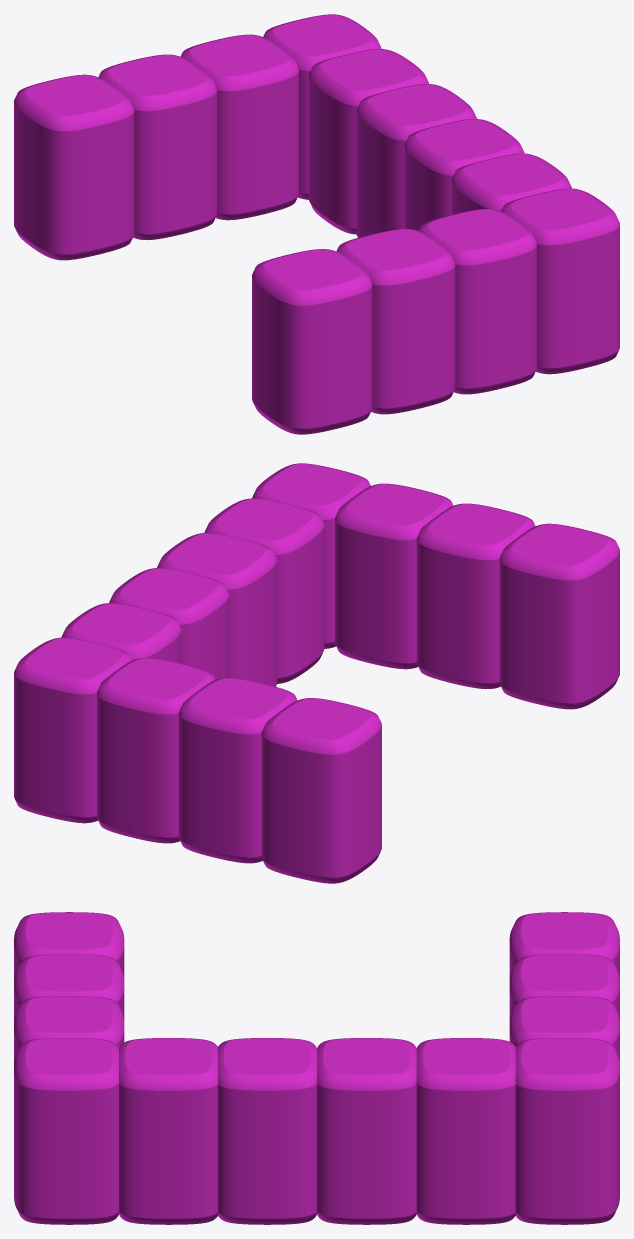
Rendered from Letter_C.fbx.
The picture shows the model from 3 angles, top to bottom: view 1: azimuth 30°, elevation 25°; view 2: azimuth 150°, elevation 25°; view 3: azimuth 270°, elevation 25°; orthographic projection. The views are drawn at different scales.
Parts seen in each view (by area): view 1: Letter_C; view 2: Letter_C; view 3: Letter_C.
Boxes of the visible parts, left/top/right/bottom form: Letter_C: left=14, top=14, right=619, bottom=434; Letter_C: left=14, top=463, right=619, bottom=883; Letter_C: left=14, top=912, right=619, bottom=1224.
Bounding box in the file's own units: 0.3465 × 0.14 × 0.5146.
